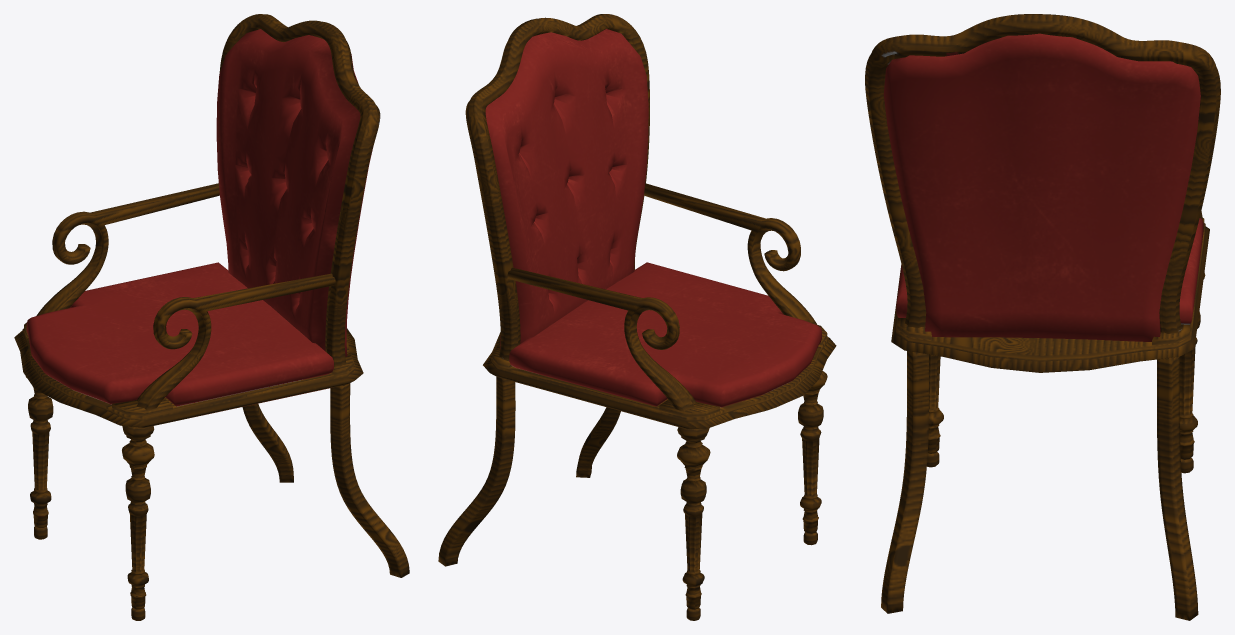
File: chair.fbx
3 renders of one model, left to right at view 1: azimuth 30°, elevation 25°; view 2: azimuth 150°, elevation 25°; view 3: azimuth 270°, elevation 25°, orthographic. The views are drawn at different scales.
Parts seen in each view (by area): view 1: stoel.004; view 2: stoel.004; view 3: stoel.004.
Boxes of the visible parts, left/top/right/bottom form: stoel.004: left=14, top=14, right=409, bottom=620; stoel.004: left=438, top=14, right=836, bottom=620; stoel.004: left=865, top=14, right=1220, bottom=620.
Size of the model in its own units: 109 by 166 by 90.71.
